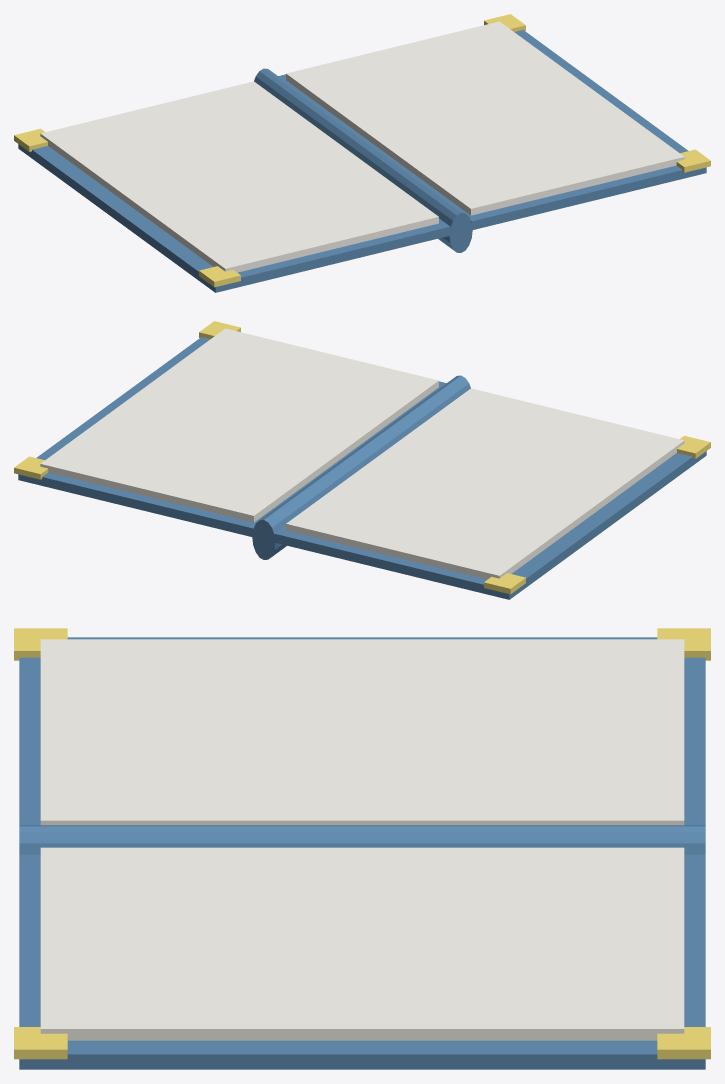
Rendered from storybook_master.glb.
3 renders of one model, top to bottom at view 1: azimuth 30°, elevation 25°; view 2: azimuth 150°, elevation 25°; view 3: azimuth 270°, elevation 25°, orthographic. The views are drawn at different scales.
Parts seen in each view (by area): view 1: Pages_Right, Pages_Left, Book_Cover_Left, Book_Cover_Right, Book_Spine, Gold_Corner.001, Gold_Corner.003, Gold_Corner; view 2: Pages_Right, Pages_Left, Book_Cover_Left, Book_Cover_Right, Book_Spine, Gold_Corner, Gold_Corner.002, Gold_Corner.001; view 3: Pages_Right, Pages_Left, Book_Cover_Right, Book_Spine, Book_Cover_Left, Gold_Corner.002, Gold_Corner.003, Gold_Corner, Gold_Corner.001.
Boxes of the visible parts, x1,y1,x2,y2 form: Pages_Right: [286, 21, 684, 215]; Pages_Left: [40, 81, 438, 272]; Book_Cover_Left: [18, 144, 450, 292]; Book_Cover_Right: [278, 30, 706, 230]; Book_Spine: [254, 68, 472, 252]; Gold_Corner.001: [199, 266, 240, 287]; Gold_Corner.003: [676, 149, 710, 172]; Gold_Corner: [14, 128, 47, 151]; Pages_Right: [40, 328, 438, 522]; Pages_Left: [286, 388, 684, 579]; Book_Cover_Left: [274, 451, 706, 599]; Book_Cover_Right: [18, 337, 446, 537]; Book_Spine: [252, 375, 470, 559]; Gold_Corner: [484, 573, 525, 594]; Gold_Corner.002: [14, 456, 48, 479]; Gold_Corner.001: [677, 435, 710, 458]; Pages_Right: [40, 847, 684, 1040]; Pages_Left: [40, 639, 684, 825]; Book_Cover_Right: [19, 854, 705, 1069]; Book_Spine: [19, 825, 705, 854]; Book_Cover_Left: [19, 637, 705, 825]; Gold_Corner.002: [657, 1027, 710, 1059]; Gold_Corner.003: [14, 1027, 67, 1059]; Gold_Corner: [657, 628, 710, 660]; Gold_Corner.001: [14, 628, 67, 660].
Size of the model in its own units: 4.65 by 0.36 by 3.25.
